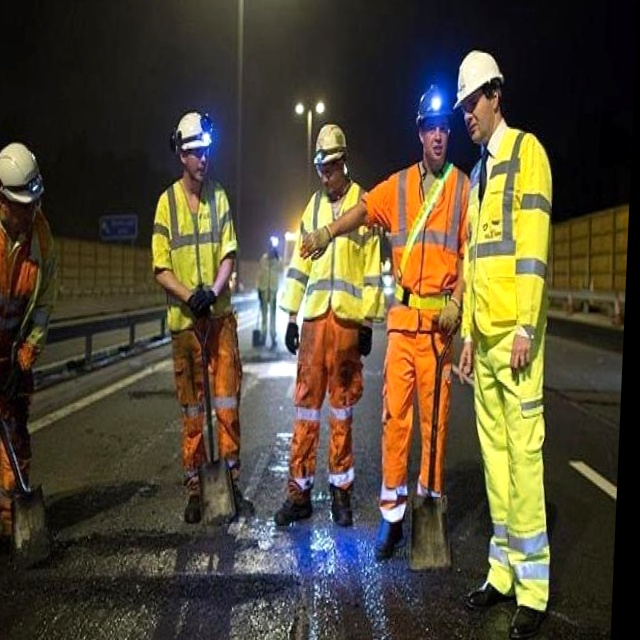Con_Casco: (452, 51, 506, 137), (0, 143, 47, 236)
Con_Chaleco: (460, 140, 556, 339), (391, 162, 474, 326), (154, 180, 238, 320), (300, 186, 384, 325)
